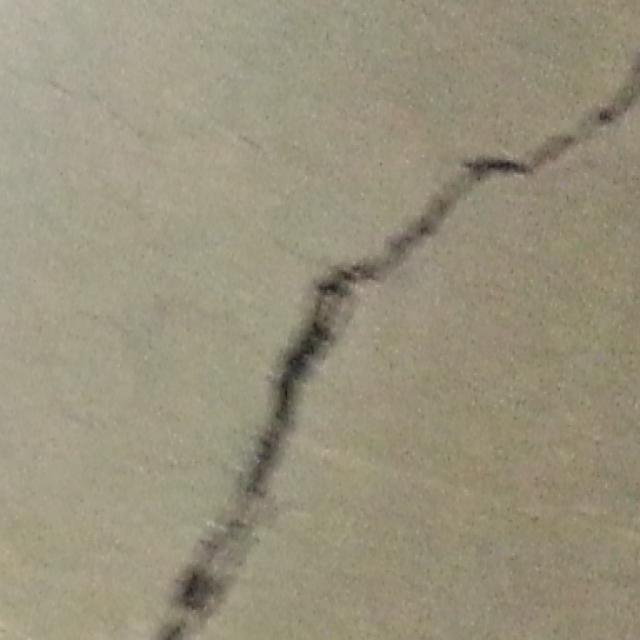Diagonal: (128, 72, 640, 640)
